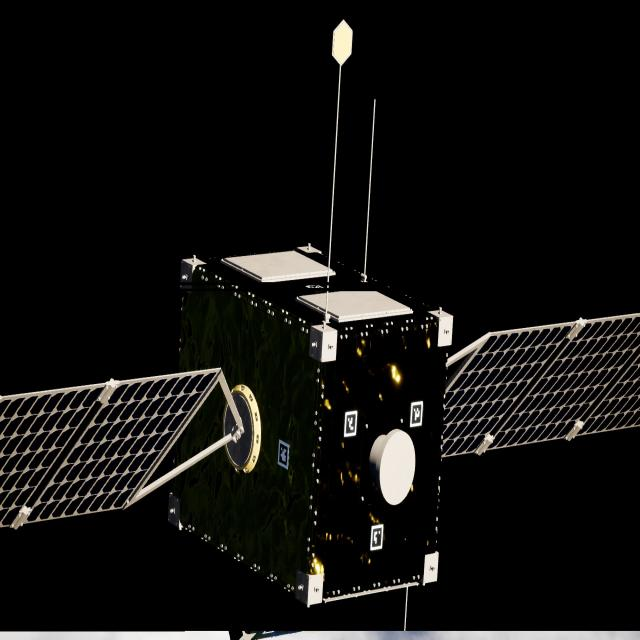satellite: (0, 251, 640, 611)
